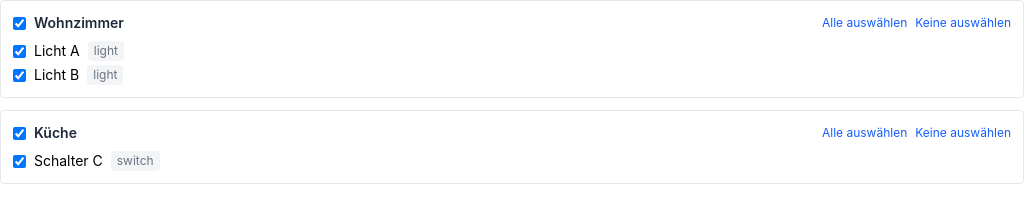
EntityCurationPanel › 'Alle auswählen' / 'Keine auswählen' select or clear every candidate in a view
Click the checkbox labelled "Licht A light". click: (20, 51)
box: left=13, top=44, right=26, bottom=58
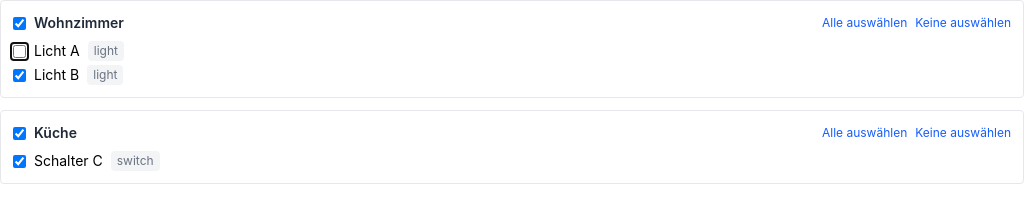
Click the checkbox labelled "Licht B light". click: (20, 75)
box: left=13, top=68, right=26, bottom=82
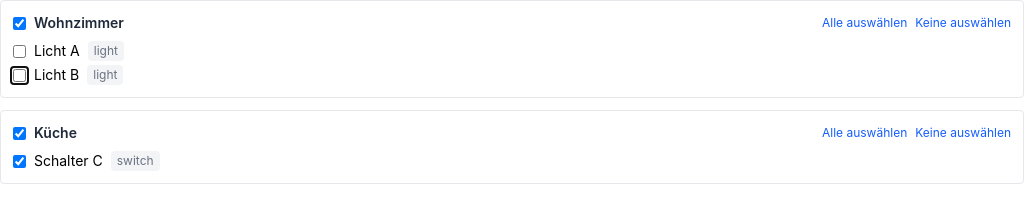
Expected: the checkbox labelled "Licht A light" is not checked, left=13, top=44, right=26, bottom=58
Expected: the checkbox labelled "Licht B light" is not checked, left=13, top=68, right=26, bottom=82
Click the button "Alle auswählen" in the row of "Wohnzimmer". click: (865, 23)
box: left=822, top=15, right=907, bottom=31
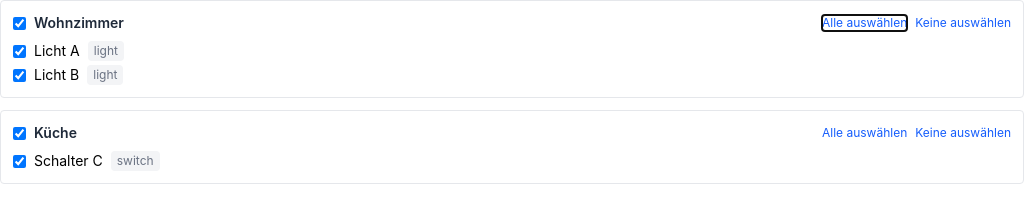
Expected: the checkbox labelled "Licht A light" is checked, left=13, top=44, right=26, bottom=58
Expected: the checkbox labelled "Licht B light" is checked, left=13, top=68, right=26, bottom=82
